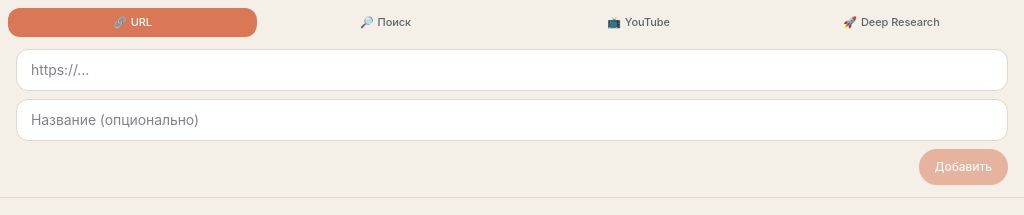
Test case: SourcesCockpit › switches to the Search tab and shows the topics editor
Click the tab with test id "sources-cockpit-tab-search" at (386, 22), box [261,8,510,36]
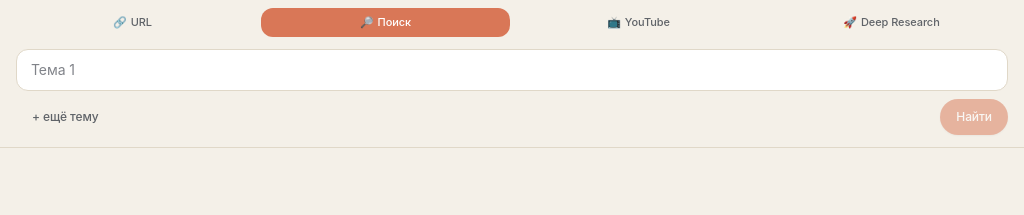
expect the element with test id "cockpit-search-topics" is shown: met, box [16,48,1008,134]
expect the field with test id "cockpit-search-topic-0" is shown: met, box [16,48,1008,90]
